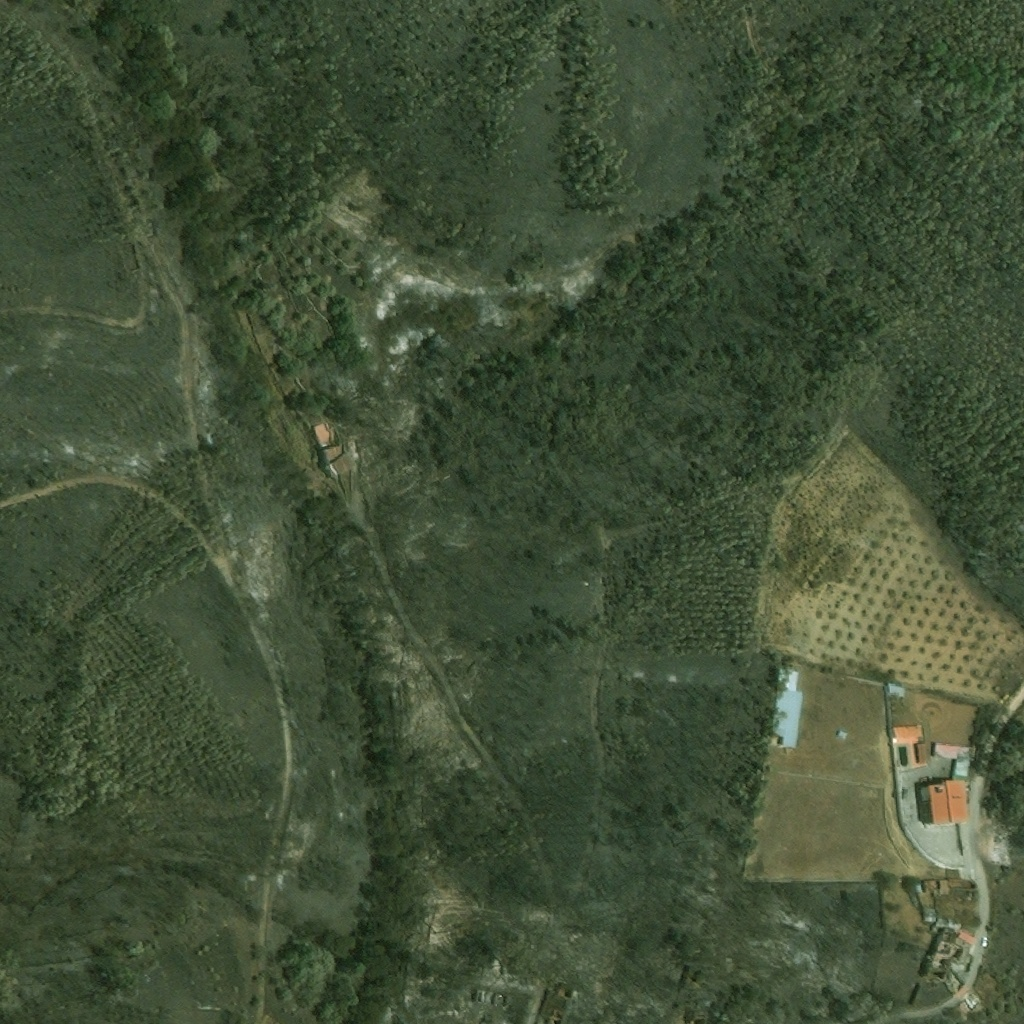0 no-damage: (919, 779, 969, 825), (935, 743, 976, 780), (328, 453, 356, 478), (894, 726, 922, 744), (312, 425, 332, 447), (916, 743, 932, 764), (324, 447, 341, 465), (888, 683, 905, 697), (959, 931, 977, 944), (838, 730, 849, 740)
1 minor-damage: (768, 668, 804, 750)
2 major-damage: (937, 915, 964, 932), (948, 878, 978, 890), (924, 907, 937, 922), (925, 879, 939, 892), (930, 923, 944, 934), (939, 878, 949, 891)
3 destroyed: (928, 926, 965, 975), (476, 990, 499, 1007), (968, 992, 986, 1010), (549, 1010, 566, 1023)
